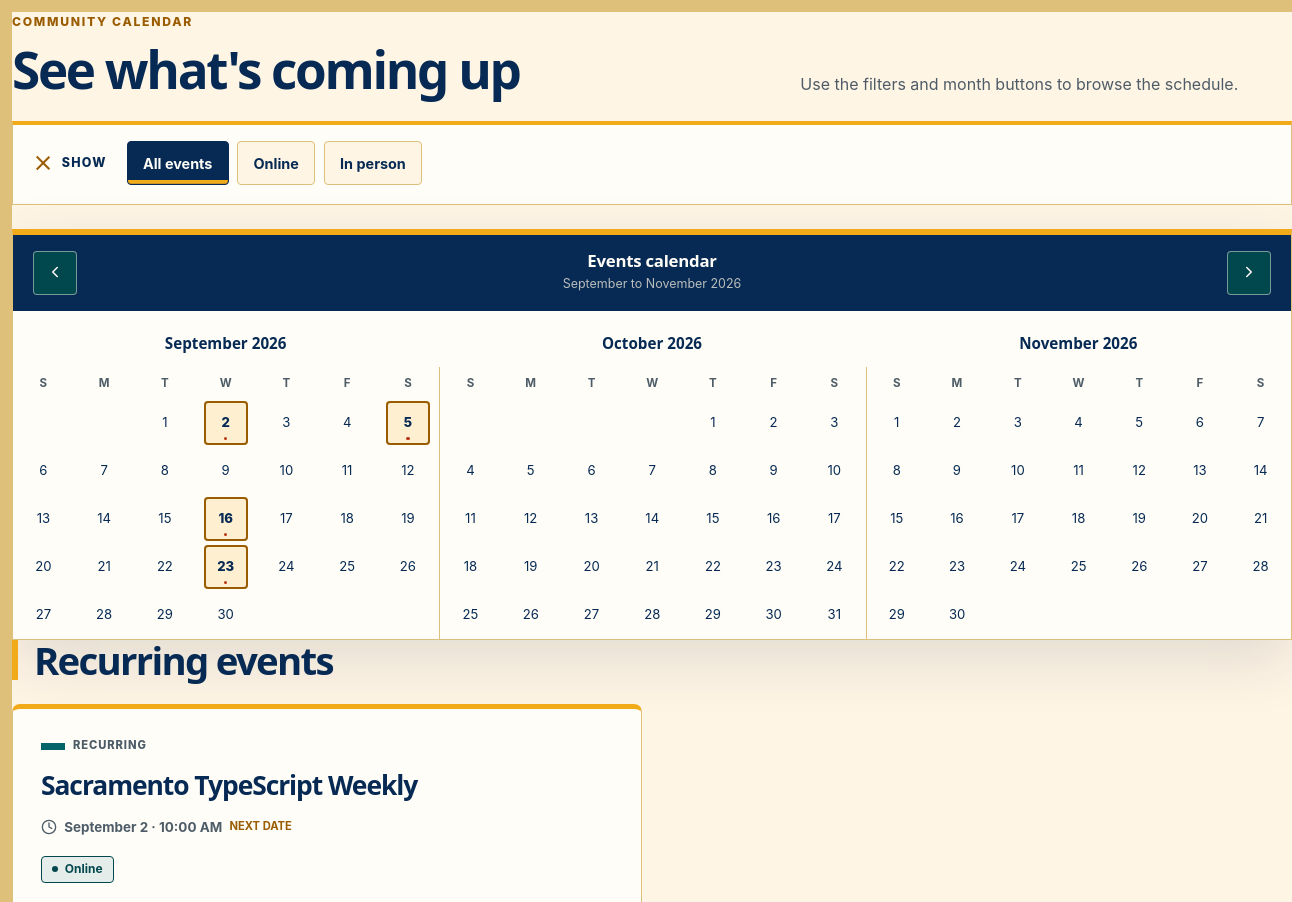
Test: public events experience › filters both the calendar and event-card collections by attendance type
The image size is (1292, 902).
Expected: the heading "Sacramento TypeScript Weekly" is shown, 41,767 -> 417,803
Click the text "Online" at (276, 163), box 237,141 -> 315,185
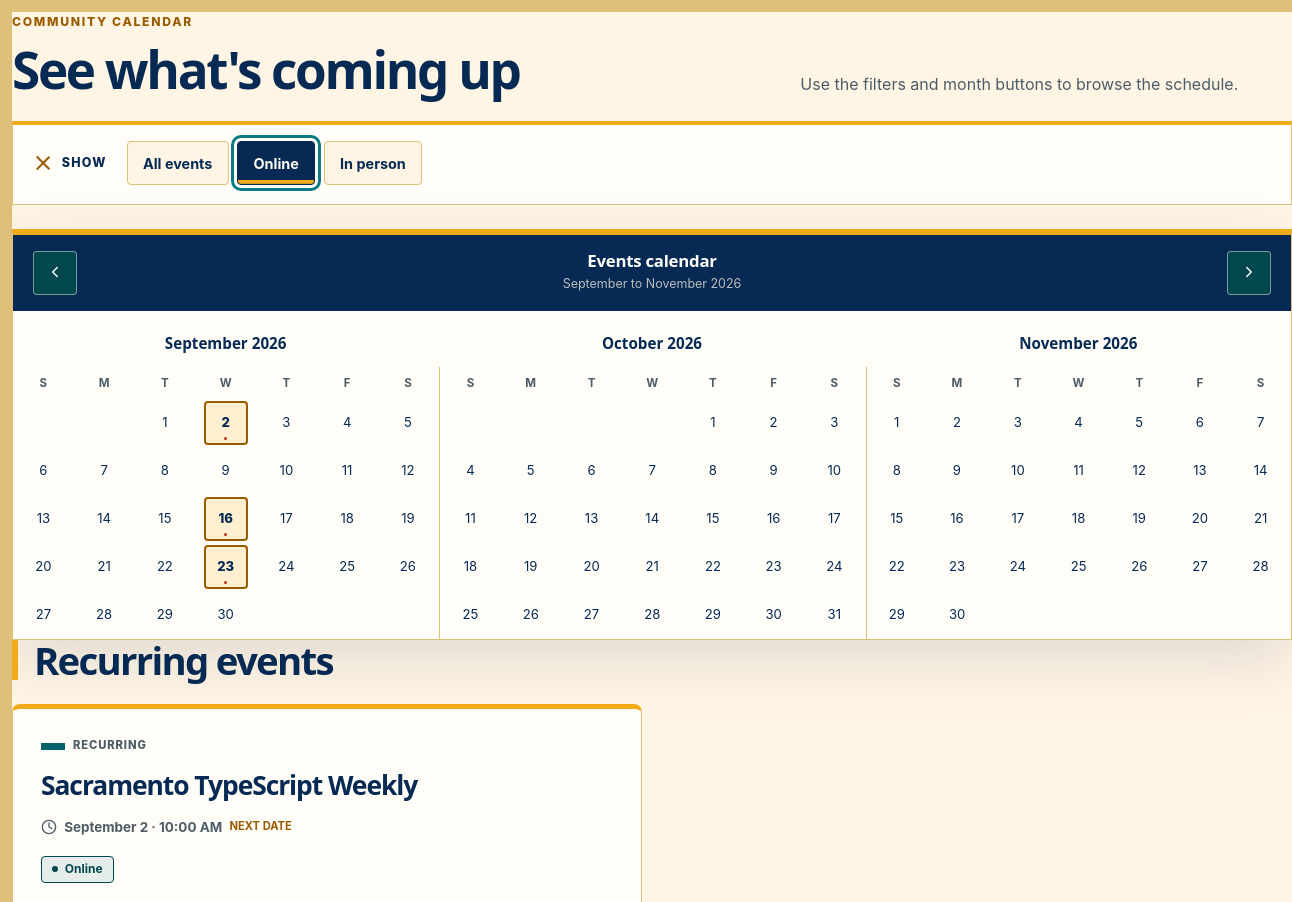
Expected: the heading "Sacramento TypeScript Weekly" is shown, 41,767 -> 417,803
Expected: the heading "Sacramento Design Summit" is not shown
Click the text "In person" at (373, 163), box 324,141 -> 422,185
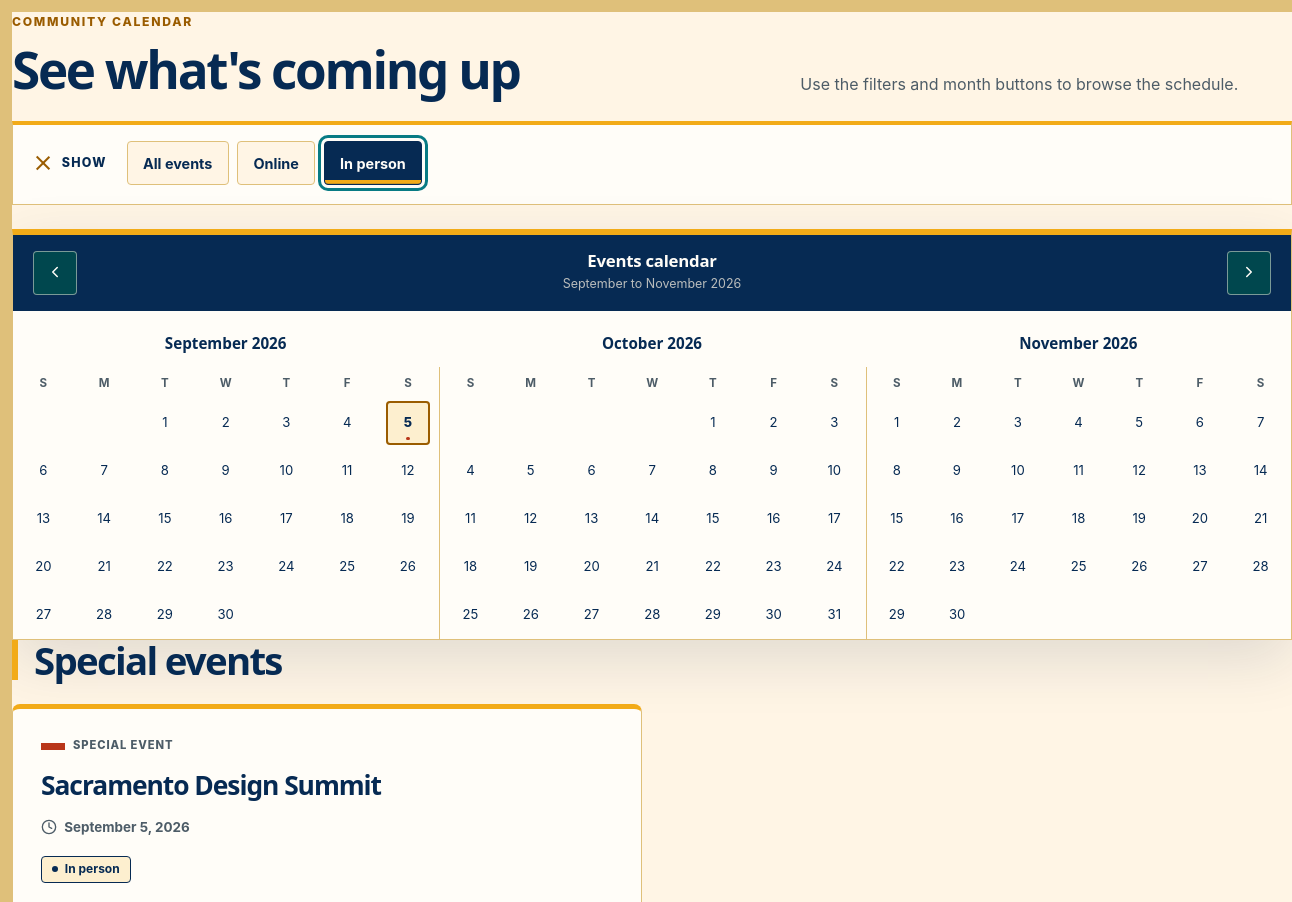
Expected: the heading "Sacramento TypeScript Weekly" is gone
Expected: the heading "Sacramento Design Summit" is shown, 41,767 -> 381,803
Expected: the button named "September 5, 2026, 1 event" is shown, 386,401 -> 430,445
